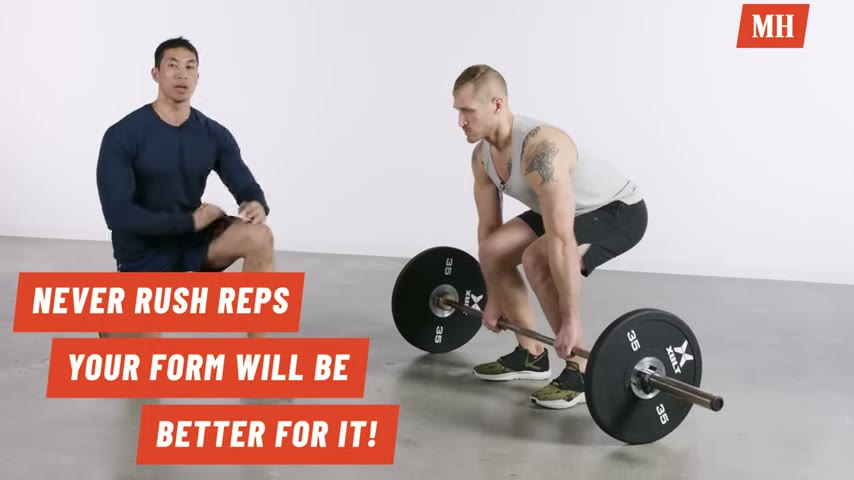barbell_plate_side: (384, 246, 476, 457), (634, 293, 725, 450)
